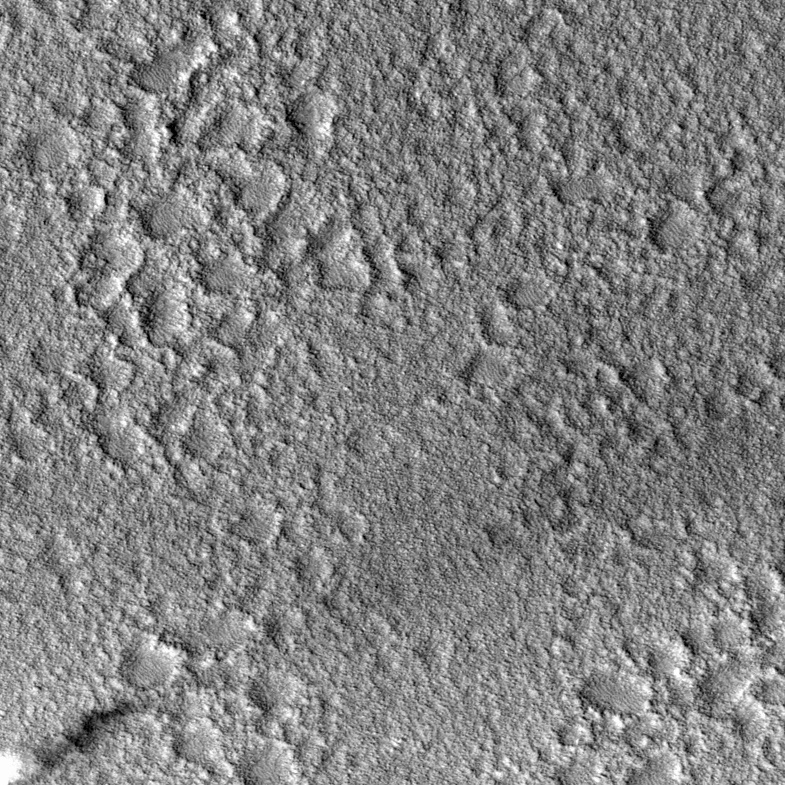dust_devil: (1, 702, 140, 785)
